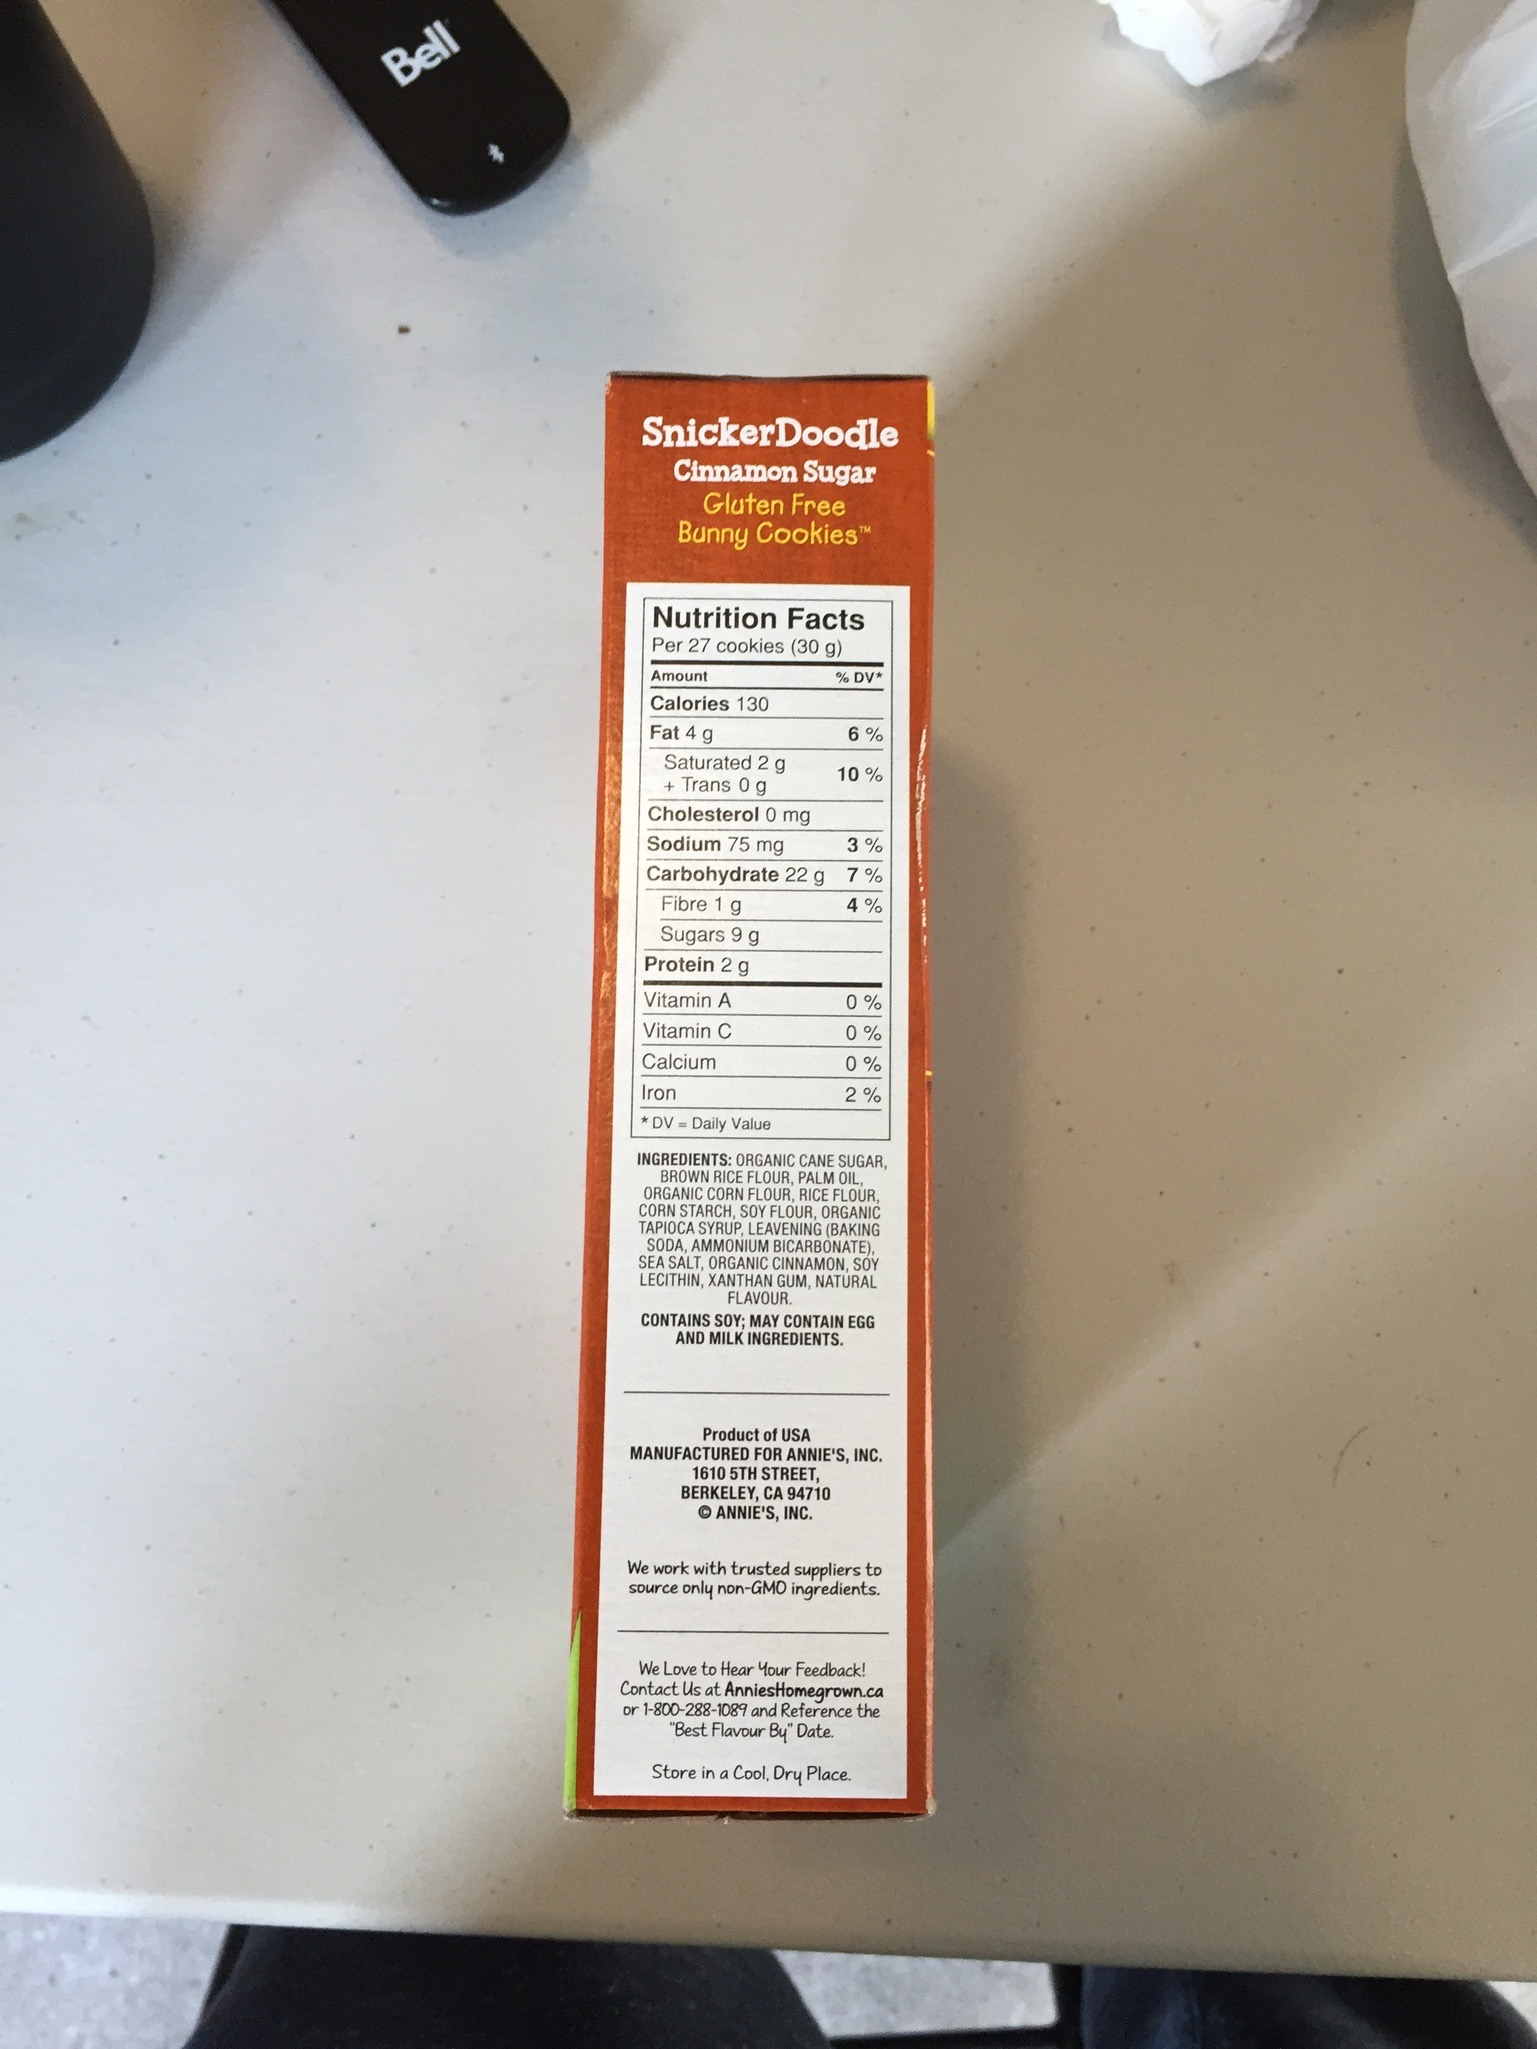annies_snickerdoodles_cinnamon_sugar: (610, 383, 928, 1804)
